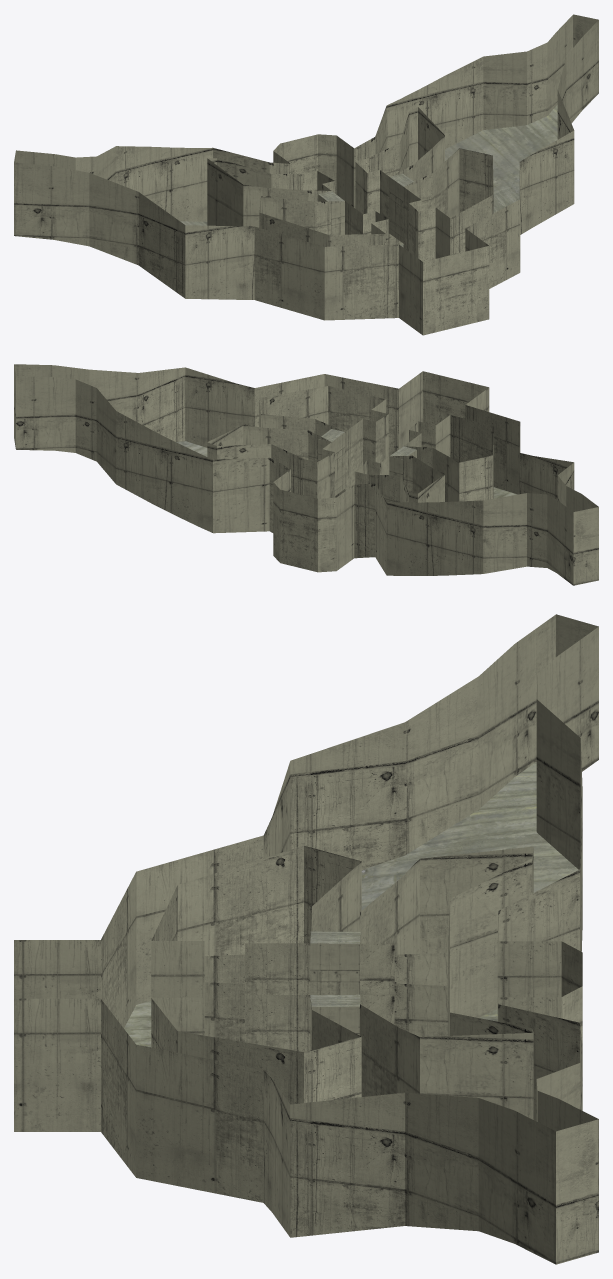
File: SM_NeoLD_09_Block_00.fbx
The picture shows the model from 3 angles, top to bottom: view 1: azimuth 30°, elevation 25°; view 2: azimuth 150°, elevation 25°; view 3: azimuth 270°, elevation 25°; orthographic projection. The views are drawn at different scales.
Parts seen in each view (by area): view 1: SM_NeoLD_09_Block_00; view 2: SM_NeoLD_09_Block_00; view 3: SM_NeoLD_09_Block_00.
Boxes of the visible parts, x1,y1,x2,y2 form: SM_NeoLD_09_Block_00: [14, 14, 598, 335]; SM_NeoLD_09_Block_00: [14, 364, 598, 585]; SM_NeoLD_09_Block_00: [14, 614, 598, 1264].
Bounding box in the file's own units: 5936 × 1230 × 2838.
